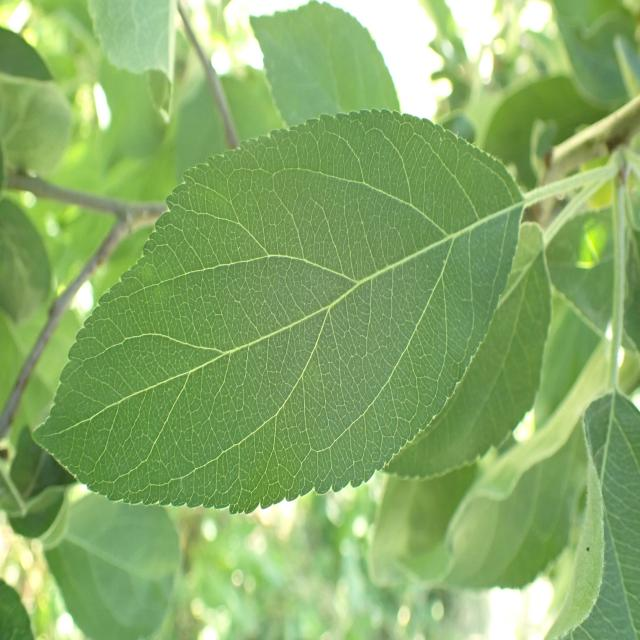healthy: (30, 109, 525, 515), (379, 221, 553, 481), (542, 390, 640, 640), (249, 0, 402, 128), (87, 0, 175, 123)
